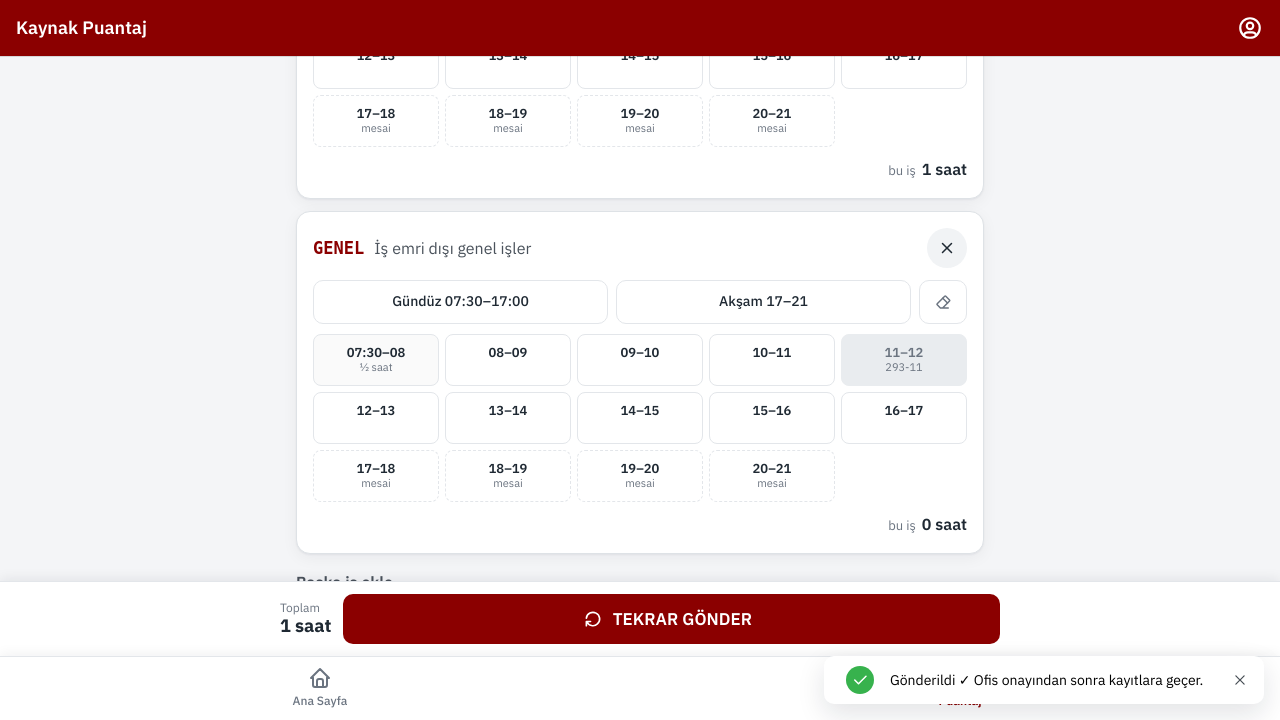
Test case: timesheet page › shows the hour taken by another job and moves it on tap
The width and height of the screenshot is (1280, 720).
(page scrolled)
Click the button named "1000 11:00-12:00" at x=904, y=360, box 841,334 -> 967,386
(page scrolled)
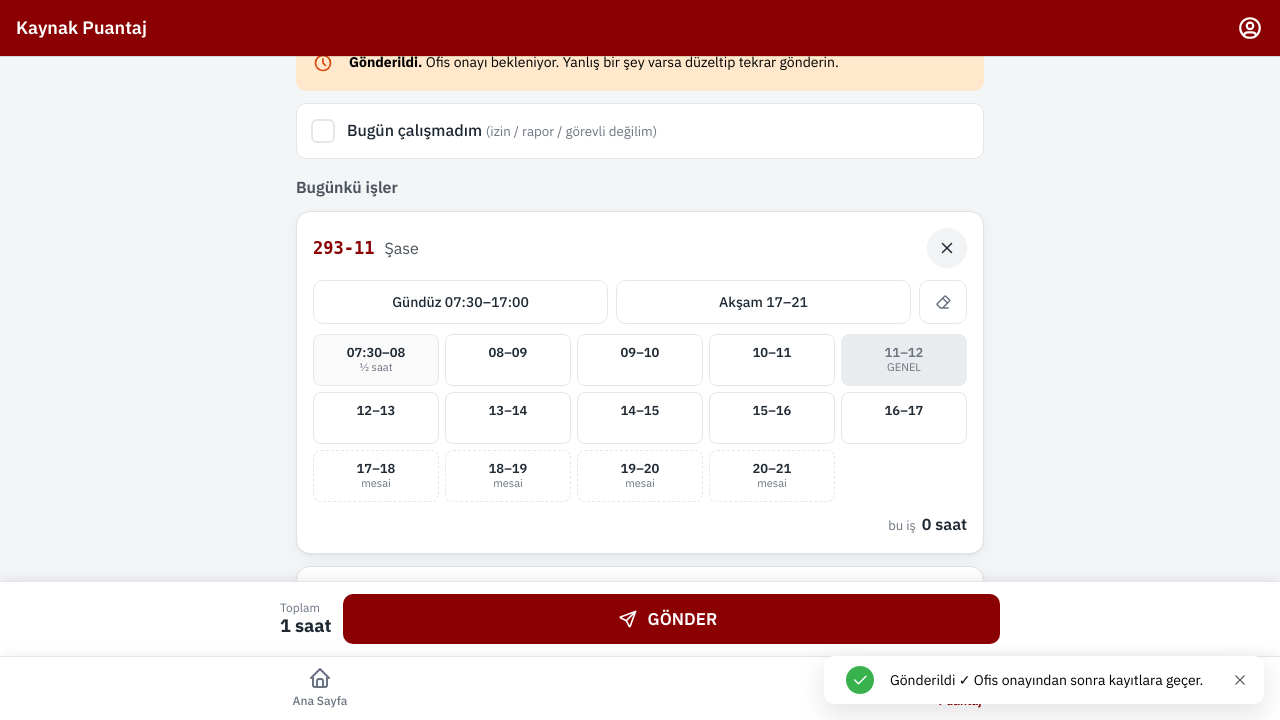
Expected: the button with aria-label "293-11 11:00-12:00" shows "GENEL", 841,334 -> 967,386
